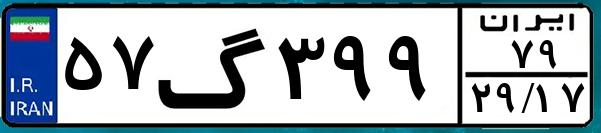1: (535, 70, 560, 125)
2: (470, 70, 495, 125)
3: (270, 28, 330, 110)
5: (57, 26, 110, 100)
7: (110, 28, 156, 98), (560, 70, 590, 125), (508, 27, 537, 80)
9: (385, 28, 445, 110), (330, 28, 385, 110), (537, 27, 568, 80), (495, 70, 520, 125)
گ: (156, 12, 270, 120)
